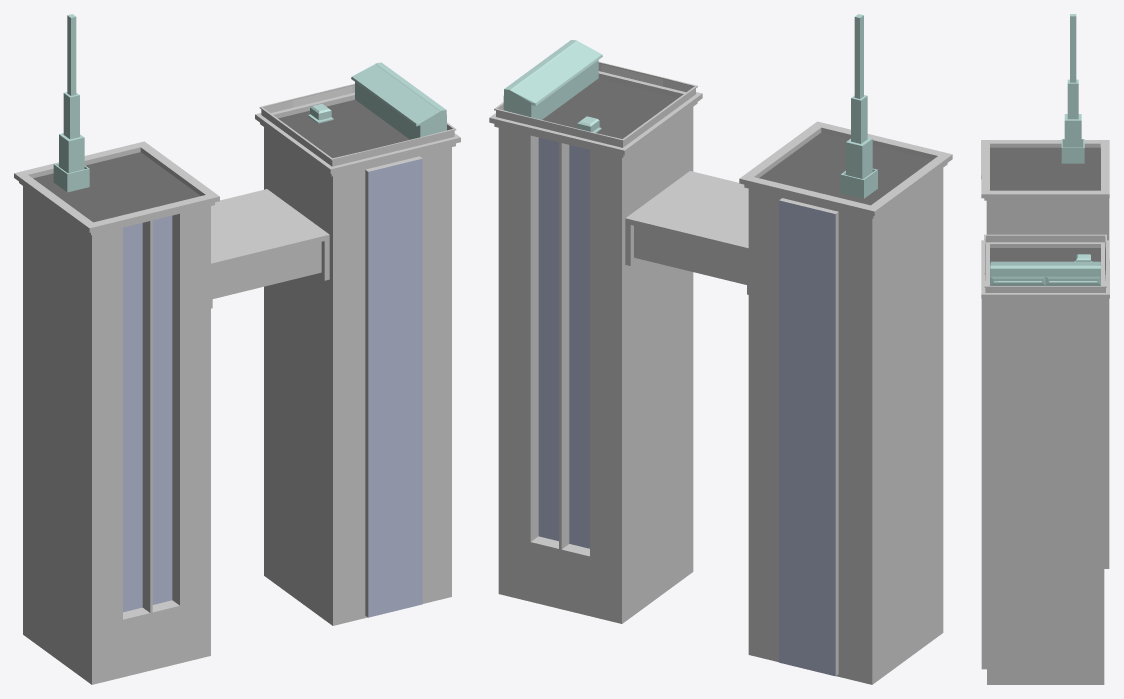
The model's file is skyscraper_1.fbx.
3 views of the same model, side by side, from view 1: azimuth 30°, elevation 25°; view 2: azimuth 150°, elevation 25°; view 3: azimuth 270°, elevation 25° (orthographic). The views are drawn at different scales.
Parts seen in each view (by area): view 1: skyscraper_1; view 2: skyscraper_1; view 3: skyscraper_1.
Boxes of the visible parts, box(x1,y1,x2,y2) form: skyscraper_1: box(14, 14, 460, 684); skyscraper_1: box(489, 14, 952, 684); skyscraper_1: box(981, 14, 1109, 684).
Size of the model in its own units: 1333 by 2139 by 469.
